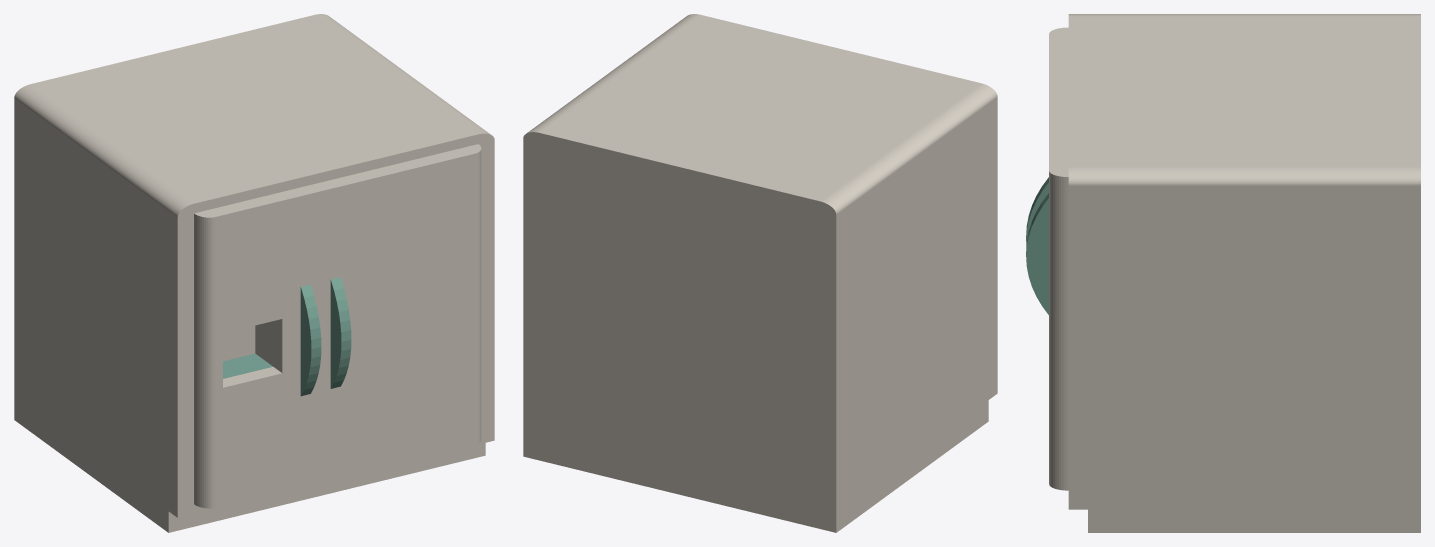
Rendered from kitchen-fridge-large.glb.
3 views of the same model, side by side, from view 1: azimuth 30°, elevation 25°; view 2: azimuth 150°, elevation 25°; view 3: azimuth 270°, elevation 25° (orthographic). The views are drawn at different scales.
Bounding box in the file's own units: 1 × 1 × 1.
